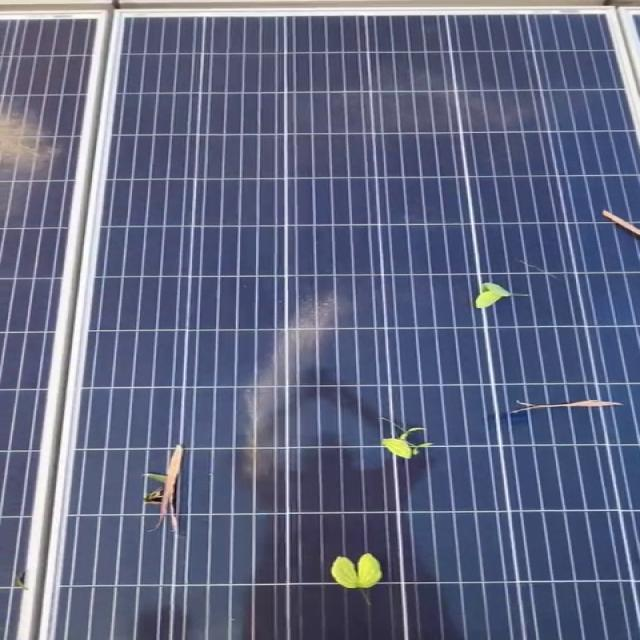dust_partical: (248, 303, 346, 420), (0, 89, 62, 237)
old_leaf: (136, 448, 203, 532), (509, 390, 640, 420), (315, 557, 411, 591), (384, 423, 452, 467), (464, 279, 527, 313), (467, 279, 528, 314), (592, 205, 640, 245)
